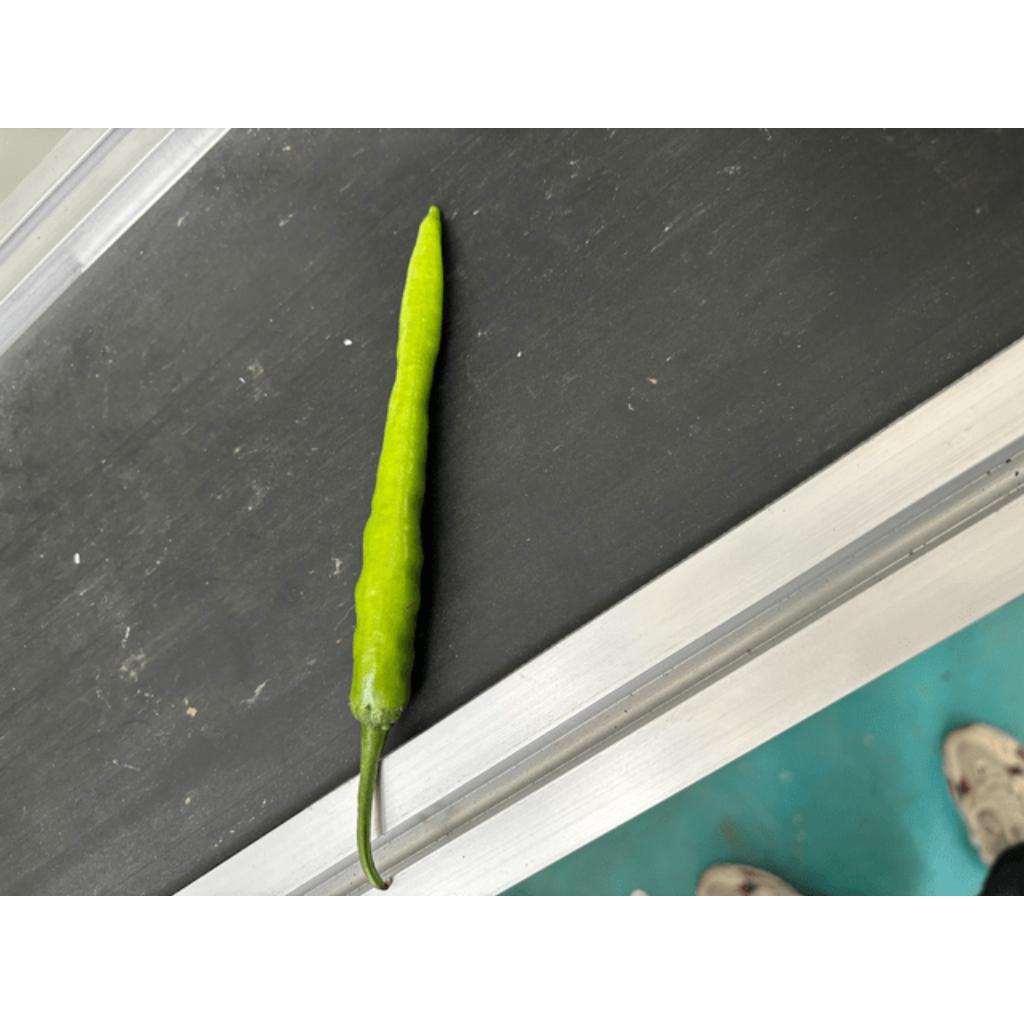chili: (347, 201, 450, 730)
